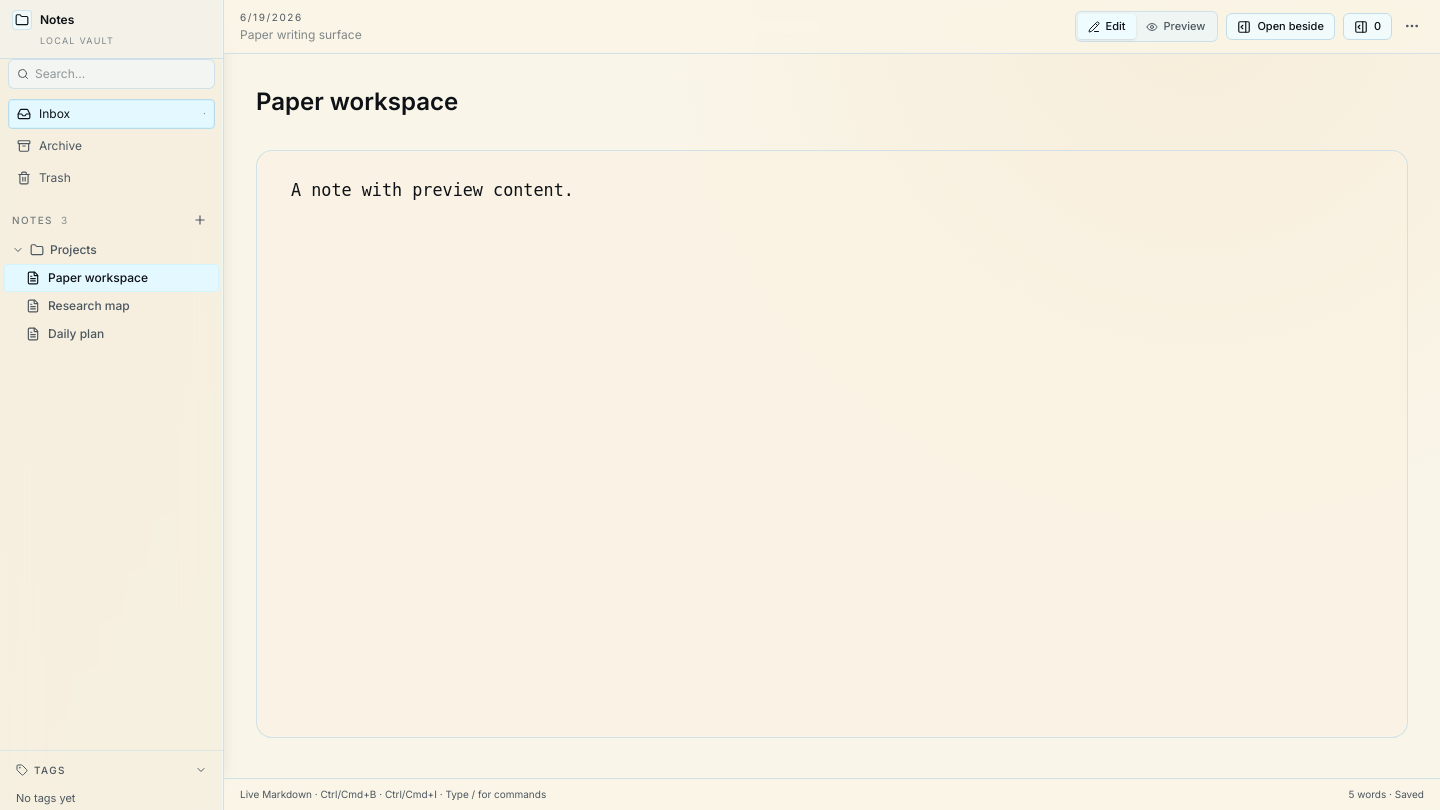
Test: NotesPage › opens a rename dialog from a folder context menu
Right-click the button with aria-label "Collapse Projects" at (112, 250), box [4, 236, 219, 264]
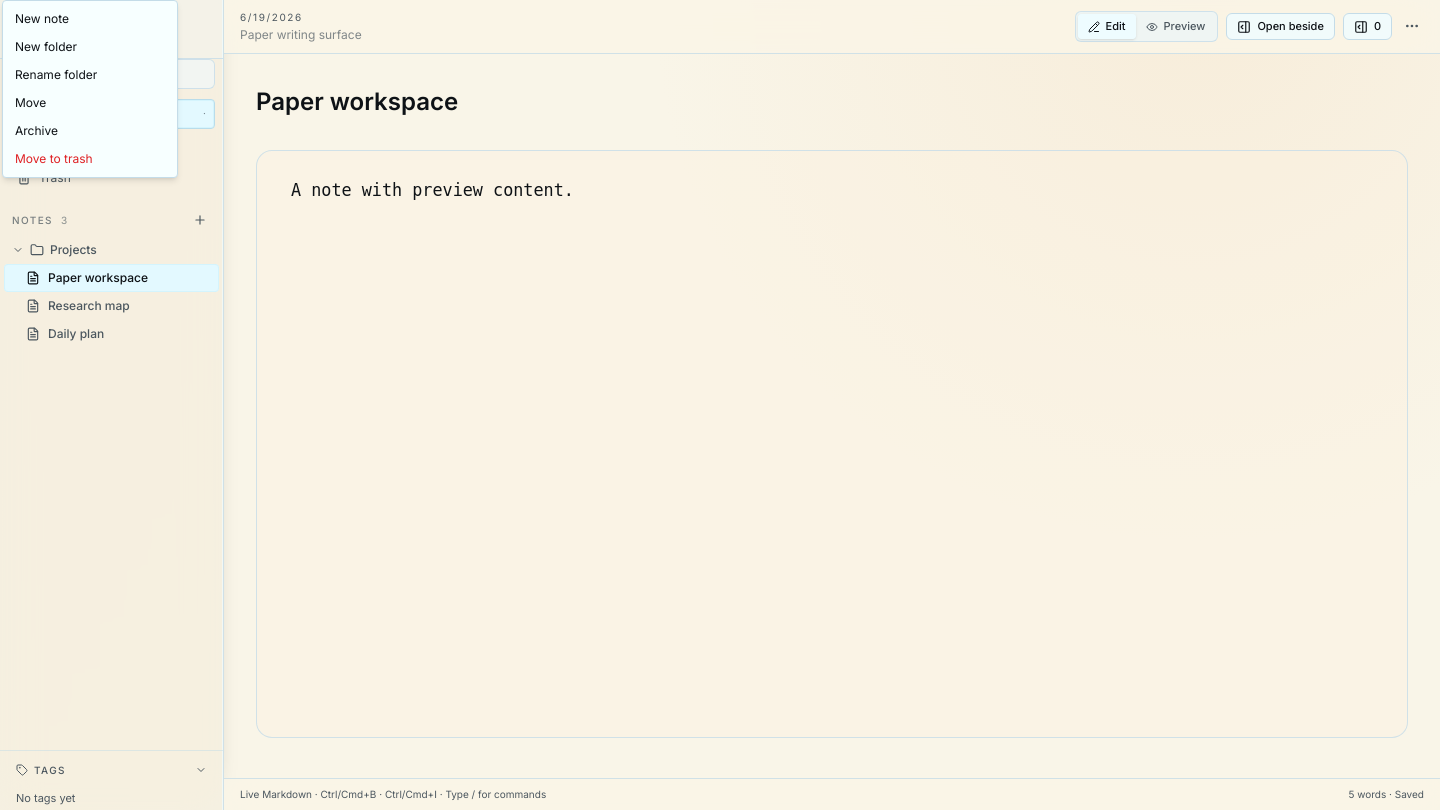
Click the menu item "Rename folder" at (56, 74), box [15, 67, 97, 82]
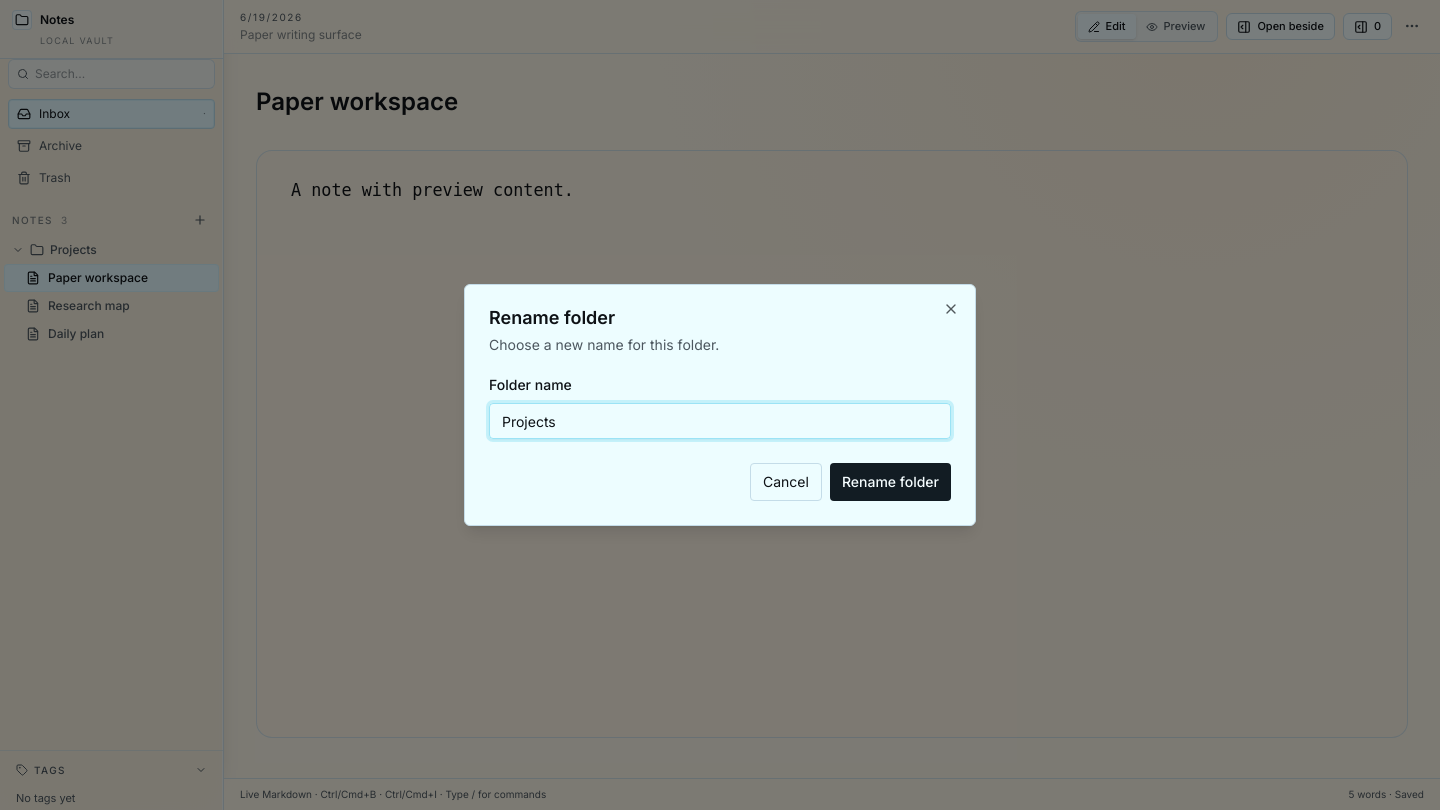
Check: the dialog "Rename folder" is shown, box [464, 284, 976, 526]
Check: the field labelled "Folder name" holds "Projects", box [489, 403, 951, 439]
